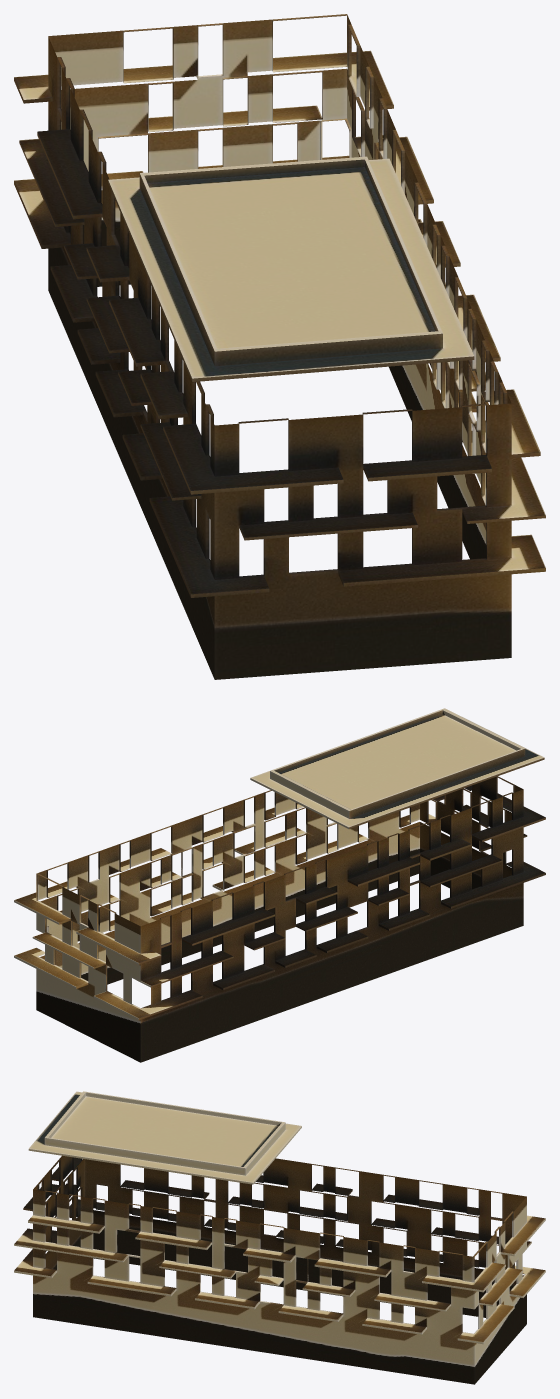
File: Building_03.fbx
3 renders of one model, top to bottom at view 1: azimuth 30°, elevation 25°; view 2: azimuth 150°, elevation 25°; view 3: azimuth 270°, elevation 25°, orthographic. The views are drawn at different scales.
Parts seen in each view (by area): view 1: Building_03; view 2: Building_03; view 3: Building_03.
Part boxes in pixels (<box>): Building_03: <box>14,14,545,679</box>; Building_03: <box>14,708,545,1062</box>; Building_03: <box>14,1091,545,1384</box>.
Size of the model in its own units: 34.15 by 18.35 by 53.48.
1 material, 1 textured.
